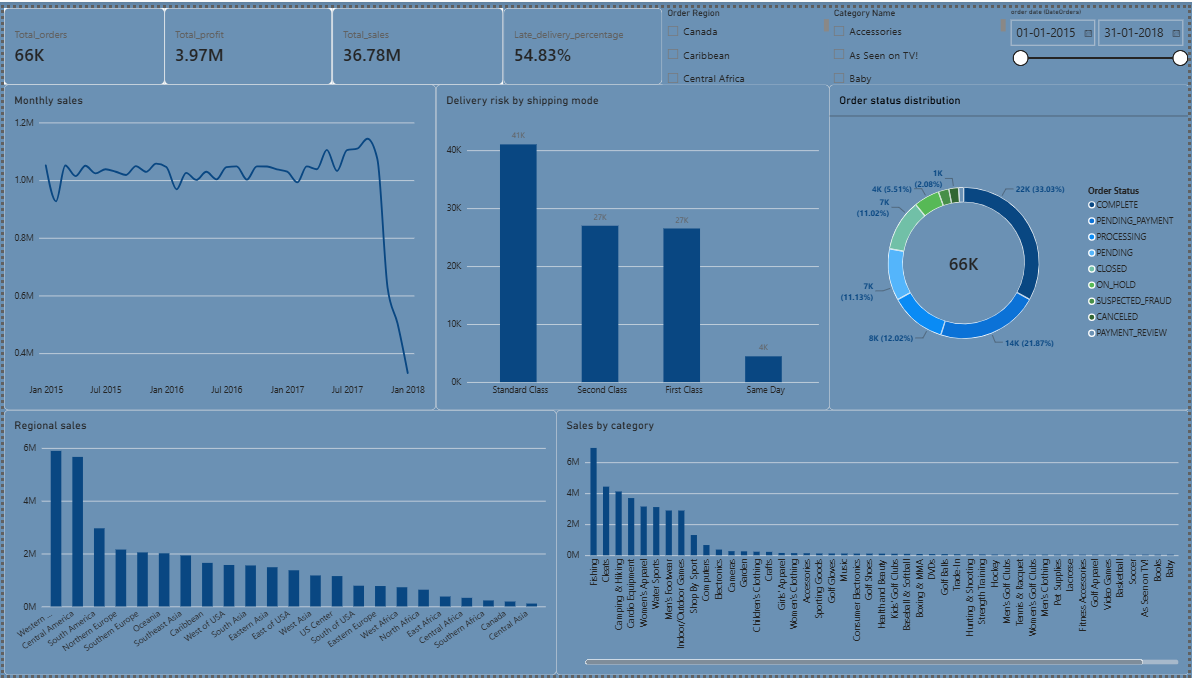

The dashboard page shown, as its layout file describes it:
{"tool":"powerbi","page":{"name":"Page 1","canvas":[1920,1080],"ordinal":0},"visuals":[{"type":"cardVisual","fields":{"Data":["DataCoSupplyChainDataset.Total_orders"]},"box":[0,0,260.1,124.1],"z":0},{"type":"cardVisual","fields":{"Data":["DataCoSupplyChainDataset.Total_profit"]},"box":[260.1,0,272,124.1],"z":1},{"type":"cardVisual","fields":{"Data":["DataCoSupplyChainDataset.Total_sales"]},"box":[532.1,0,276.8,124.1],"z":2},{"type":"cardVisual","fields":{"Data":["DataCoSupplyChainDataset.Late_delivery_percentage"]},"box":[808.8,0,257.7,124.1],"z":3},{"type":"lineChart","title":"Monthly sales","fields":{"Category":["DataCoSupplyChainDataset.order date (DateOrders).Variation.Date Hierarchy.Year","DataCoSupplyChainDataset.order date (DateOrders).Variation.Date Hierarchy.Month"],"Y":["DataCoSupplyChainDataset.Total_sales"]},"box":[0,124.1,699.1,527.3],"z":4},{"type":"clusteredColumnChart","title":"Regional sales","fields":{"Category":["DataCoSupplyChainDataset.Order Region"],"Y":["DataCoSupplyChainDataset.Total_sales"]},"box":[0,651.4,894.7,429.5],"z":6},{"type":"clusteredColumnChart","title":"Delivery risk by shipping mode","fields":{"Category":["DataCoSupplyChainDataset.Shipping Mode"],"Y":["Sum(DataCoSupplyChainDataset.Late_delivery_risk)"]},"box":[699.1,124.1,637,527.3],"z":7},{"type":"donutChart","title":"Order status distribution","fields":{"Category":["DataCoSupplyChainDataset.Order Status"],"Y":["DataCoSupplyChainDataset.Total_orders"]},"box":[1336.1,124.1,584.5,527.3],"z":8},{"type":"slicer","fields":{"Values":["DataCoSupplyChainDataset.order date (DateOrders)"]},"box":[1622.4,0,298.2,124.1],"z":9},{"type":"slicer","fields":{"Values":["DataCoSupplyChainDataset.Category Name"]},"box":[1336.1,0,286.3,124.1],"z":10},{"type":"slicer","fields":{"Values":["DataCoSupplyChainDataset.Order Region"]},"box":[1066.5,0,269.6,124.1],"z":11},{"type":"clusteredColumnChart","title":"Sales by category","fields":{"Category":["DataCoSupplyChainDataset.Category Name"],"Y":["DataCoSupplyChainDataset.Total_sales"]},"box":[893.7,650.2,1025.4,429.6],"z":12}]}

Visuals, with their boxes in screenshot pixels (x1, y1, x2, y2), scaled from the page's 1920x1080 canvas onto the 1192x678 screenshot:
cardVisual - DataCoSupplyChainDataset.Total_orders: 0:0:161:78
cardVisual - DataCoSupplyChainDataset.Total_profit: 161:0:330:78
cardVisual - DataCoSupplyChainDataset.Total_sales: 330:0:502:78
cardVisual - DataCoSupplyChainDataset.Late_delivery_percentage: 502:0:662:78
"Monthly sales" lineChart: 0:78:434:409
"Regional sales" clusteredColumnChart: 0:409:555:677
"Delivery risk by shipping mode" clusteredColumnChart: 434:78:829:409
"Order status distribution" donutChart: 829:78:1191:409
slicer - DataCoSupplyChainDataset.order date (DateOrders): 1007:0:1191:78
slicer - DataCoSupplyChainDataset.Category Name: 829:0:1007:78
slicer - DataCoSupplyChainDataset.Order Region: 662:0:829:78
"Sales by category" clusteredColumnChart: 555:408:1191:677
